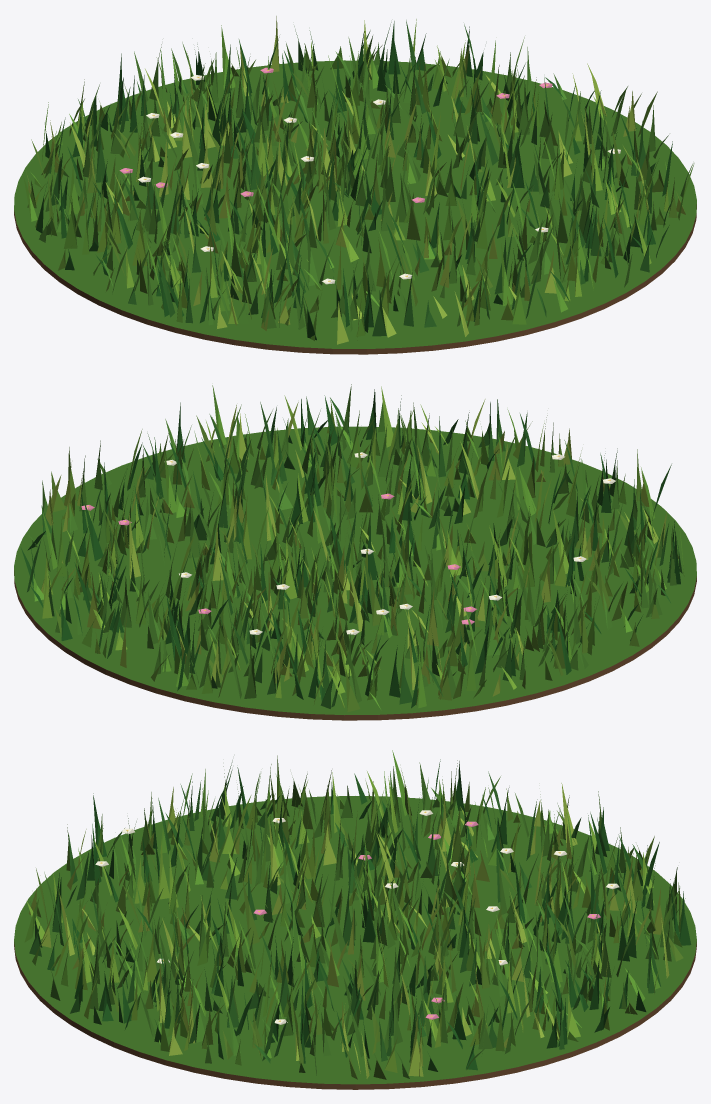
Rendered from pasto.obj.
3 renders of one model, top to bottom at view 1: azimuth 30°, elevation 25°; view 2: azimuth 150°, elevation 25°; view 3: azimuth 270°, elevation 25°, orthographic.
Visible parts, largest first — view 1: pasto; view 2: pasto; view 3: pasto.
Part boxes in pixels (bbox=[...]): pasto: bbox=[14, 16, 696, 354]; pasto: bbox=[14, 384, 696, 720]; pasto: bbox=[14, 750, 696, 1089].
Bounding box in the file's own units: 4 × 0.4349 × 4.
Materials: 1 (1 with a texture image).
